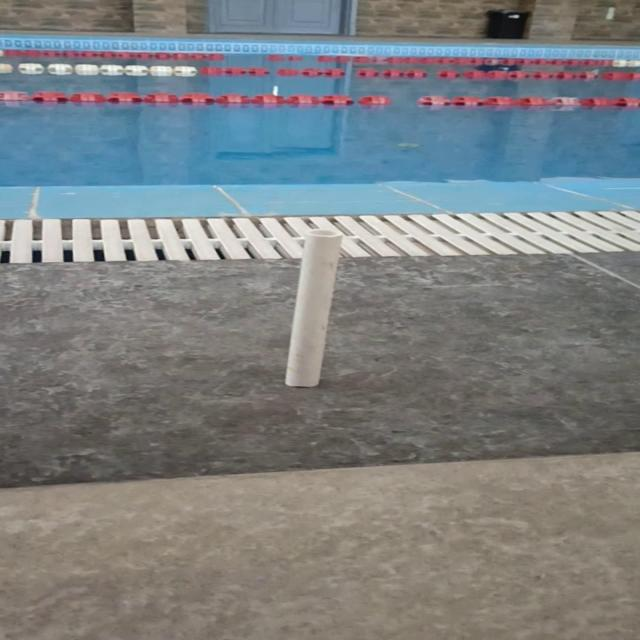Cube: (282, 228, 343, 388)
